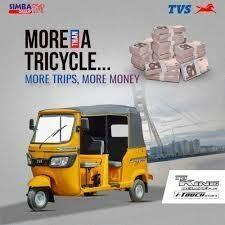keke: (26, 104, 150, 212)
